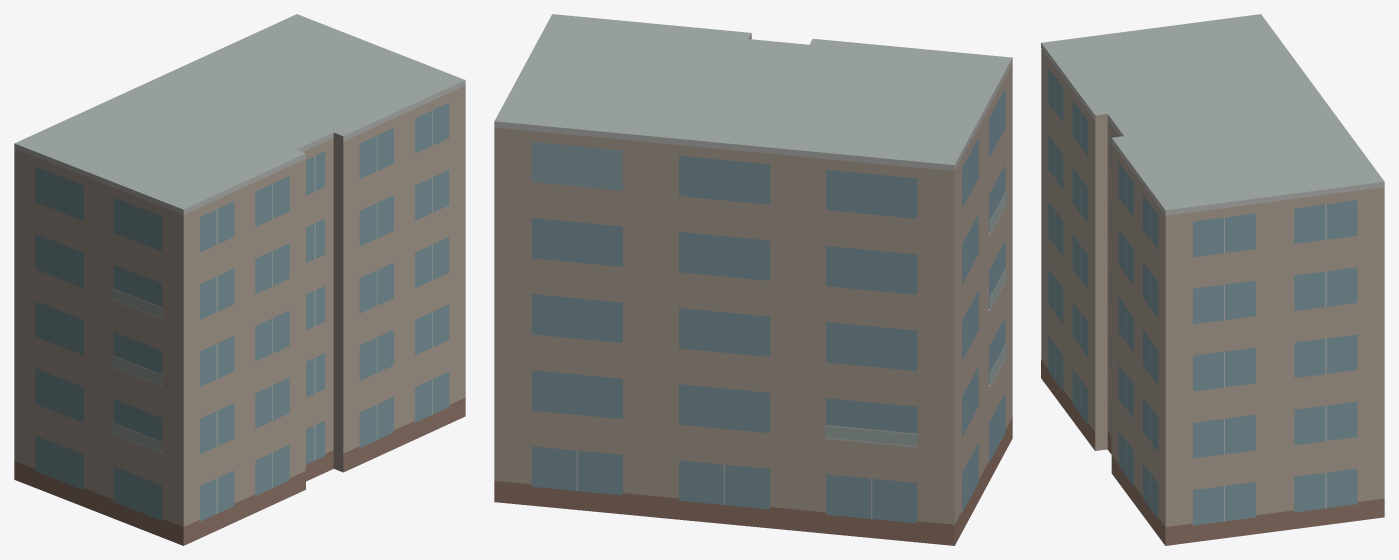
Rendered from survey-upis-32975028.glb.
3 views of the same model, side by side, from view 1: azimuth 30°, elevation 25°; view 2: azimuth 150°, elevation 25°; view 3: azimuth 270°, elevation 25° (orthographic). The views are drawn at different scales.
Parts seen in each view (by area): view 1: survey-upis-32975028.tmp; view 2: survey-upis-32975028.tmp; view 3: survey-upis-32975028.tmp.
Boxes of the visible parts, x1,y1,x2,y2 form: survey-upis-32975028.tmp: [14, 14, 465, 545]; survey-upis-32975028.tmp: [494, 14, 1012, 545]; survey-upis-32975028.tmp: [1041, 14, 1384, 545].
Size of the model in its own units: 19.15 by 15.25 by 14.16.
